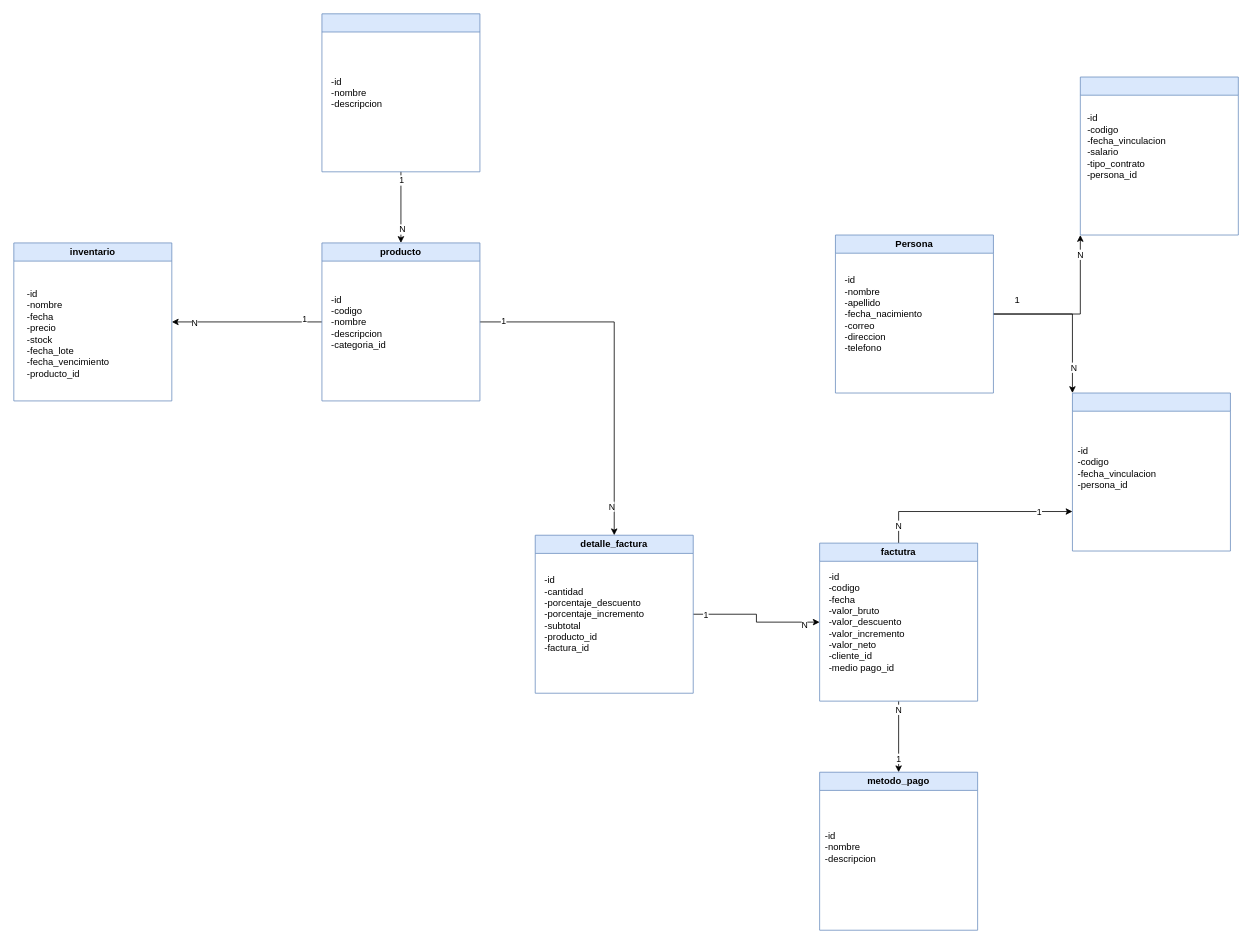
Some shapes in this 1252 by 944 pixel diagram are drawn without their labels. Each missing label, with the box of its shape:
categoria: (321, 13, 480, 172)
cliente: (1072, 392, 1230, 551)
empleado: (1080, 76, 1238, 235)
